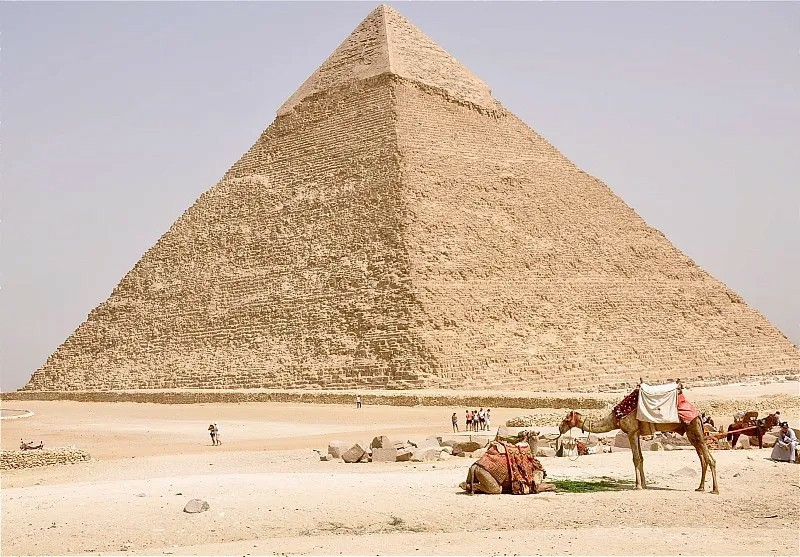Pyramid: (23, 4, 800, 389)
